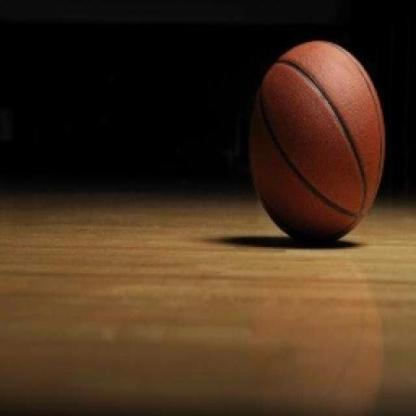basketball: (243, 33, 393, 247)
